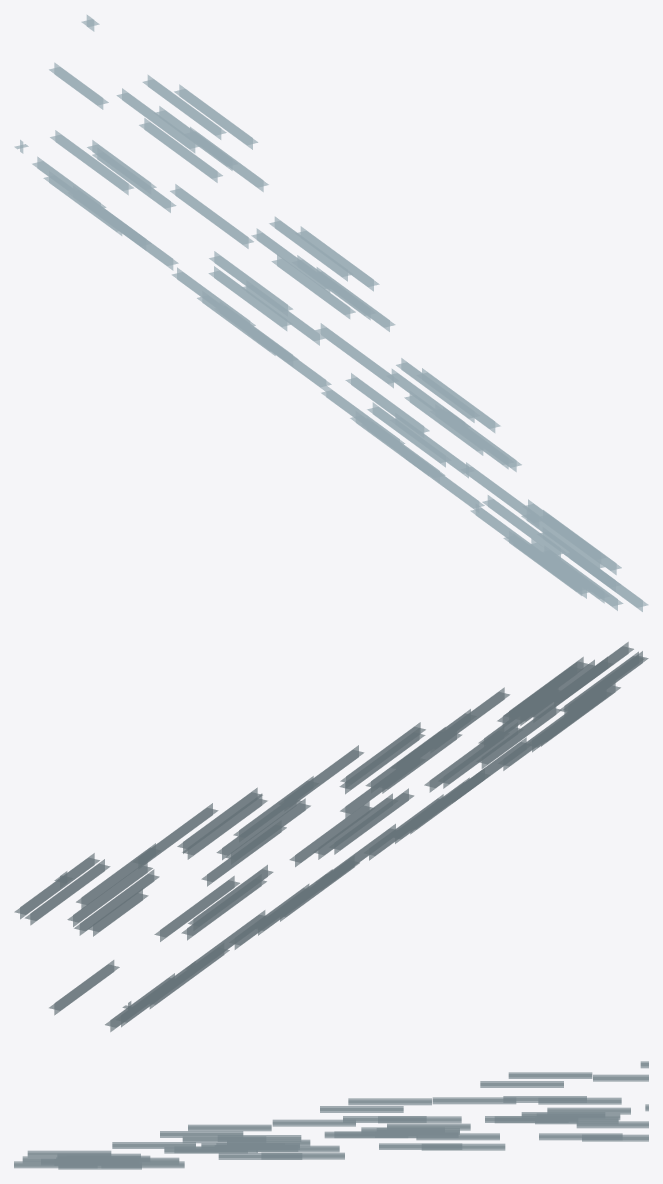
The model's file is wp_water_280.obj.
The picture shows the model from 3 angles, top to bottom: view 1: azimuth 30°, elevation 25°; view 2: azimuth 150°, elevation 25°; view 3: azimuth 270°, elevation 25°; orthographic projection. The views are drawn at different scales.
Size of the model in its own units: 0.3 by 0.3605 by 1.82.
Materials: 1 (1 with a texture image).
